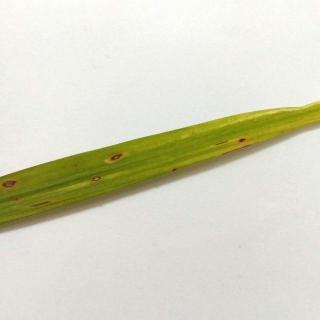Blast: (210, 135, 254, 152), (106, 152, 128, 164), (2, 176, 22, 188), (86, 175, 111, 184), (169, 165, 183, 173)
